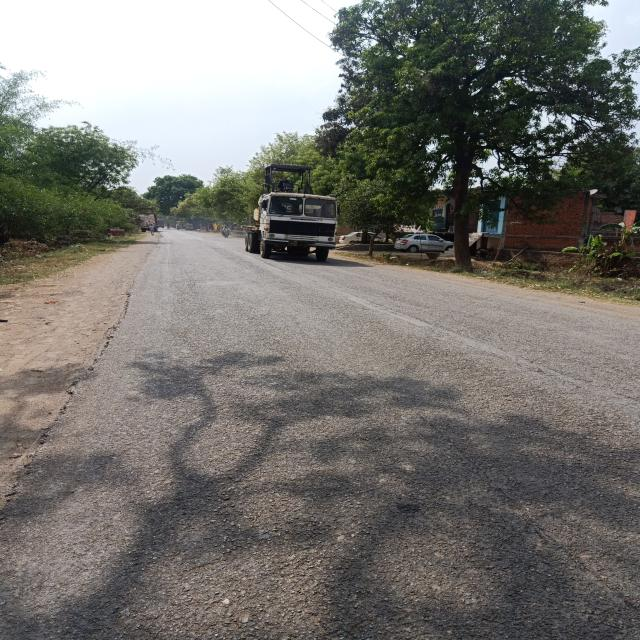Bike: (219, 228, 235, 241), (172, 225, 182, 232)
Car: (395, 228, 463, 260), (335, 232, 393, 243)
Truck: (235, 158, 360, 280), (134, 213, 158, 239), (155, 218, 167, 230)
tempo: (184, 224, 194, 234)
